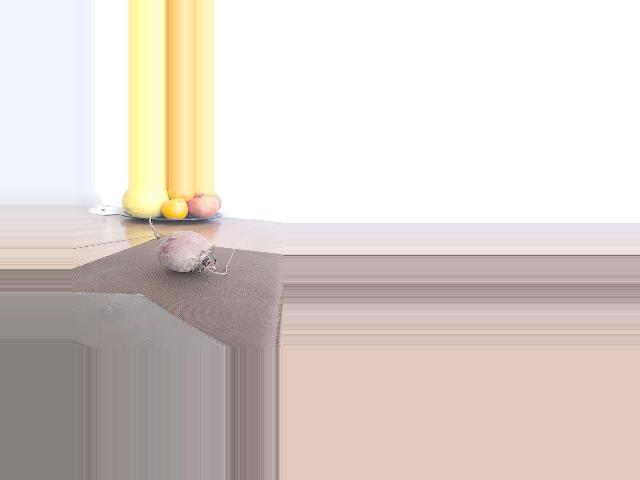beet: (148, 211, 233, 275)
